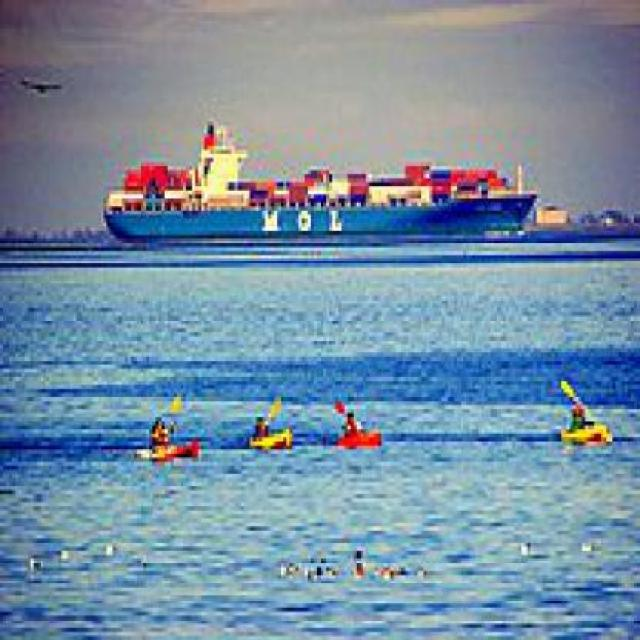container: (96, 110, 540, 252)
